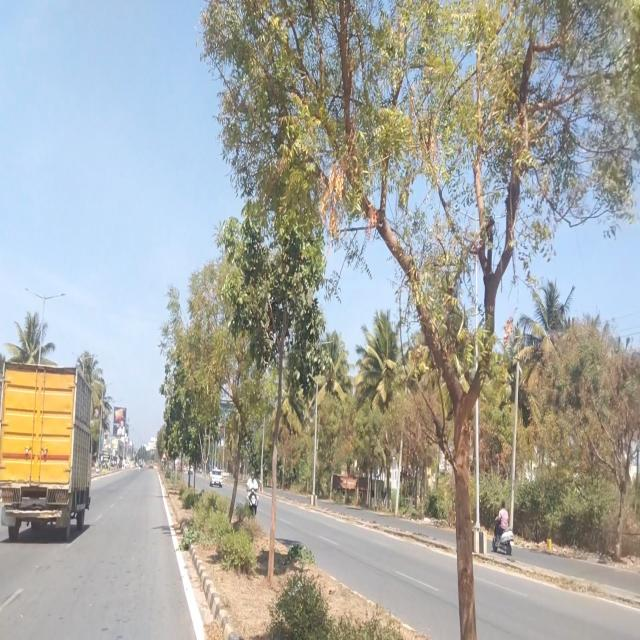bien_cam: (160, 452, 168, 464)
